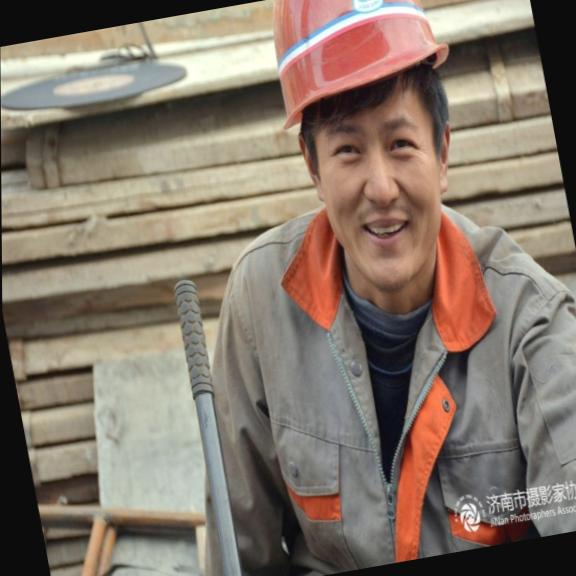no_safety_vest: (162, 163, 576, 576)
